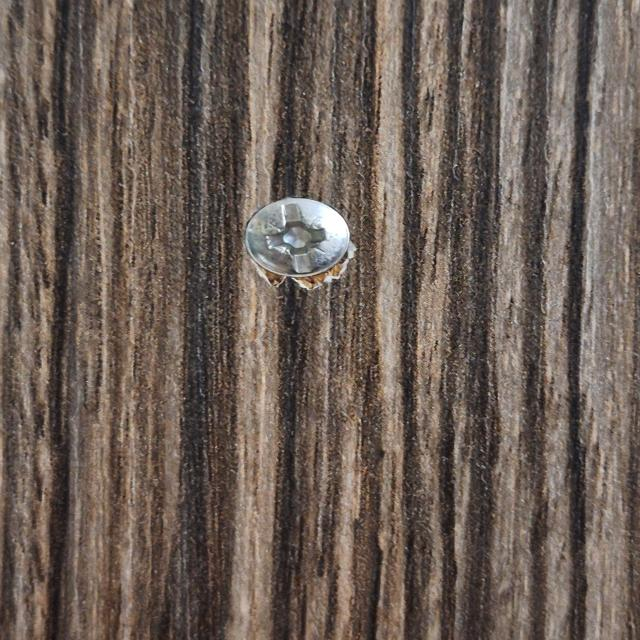Phillips: (234, 193, 354, 283)
